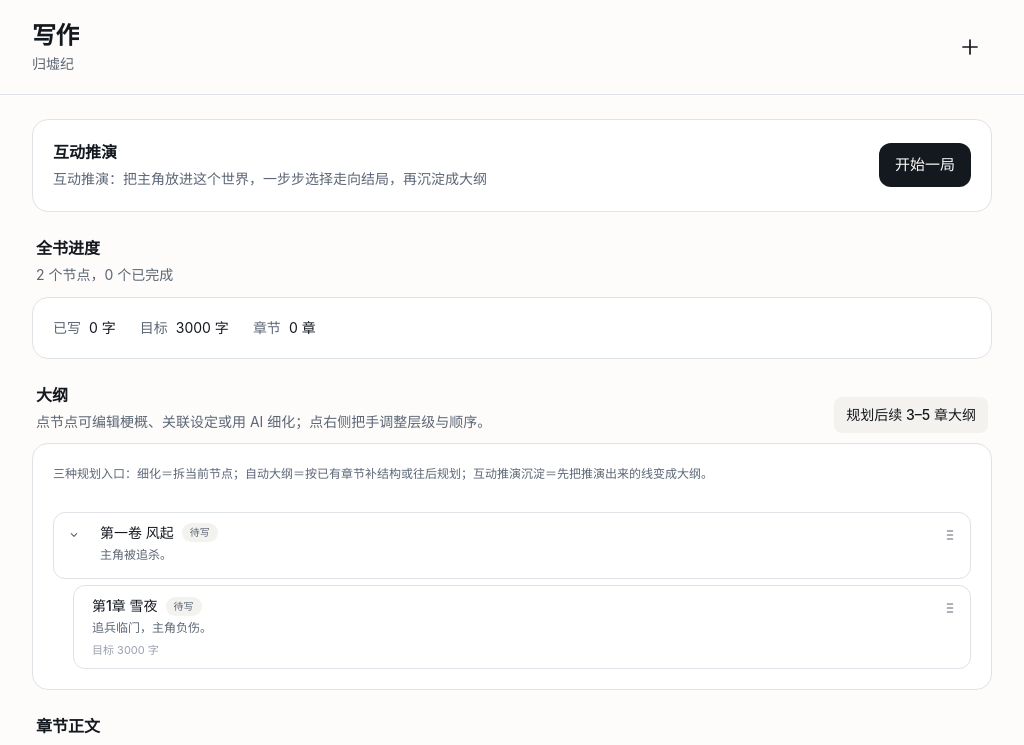
Test: 编辑与自动保存 › 实时显示字数
Step 1. Click the button with aria-label "编辑「第1章 雪夜」" → (125, 606), box x1=84 y1=586 x2=932 y2=668
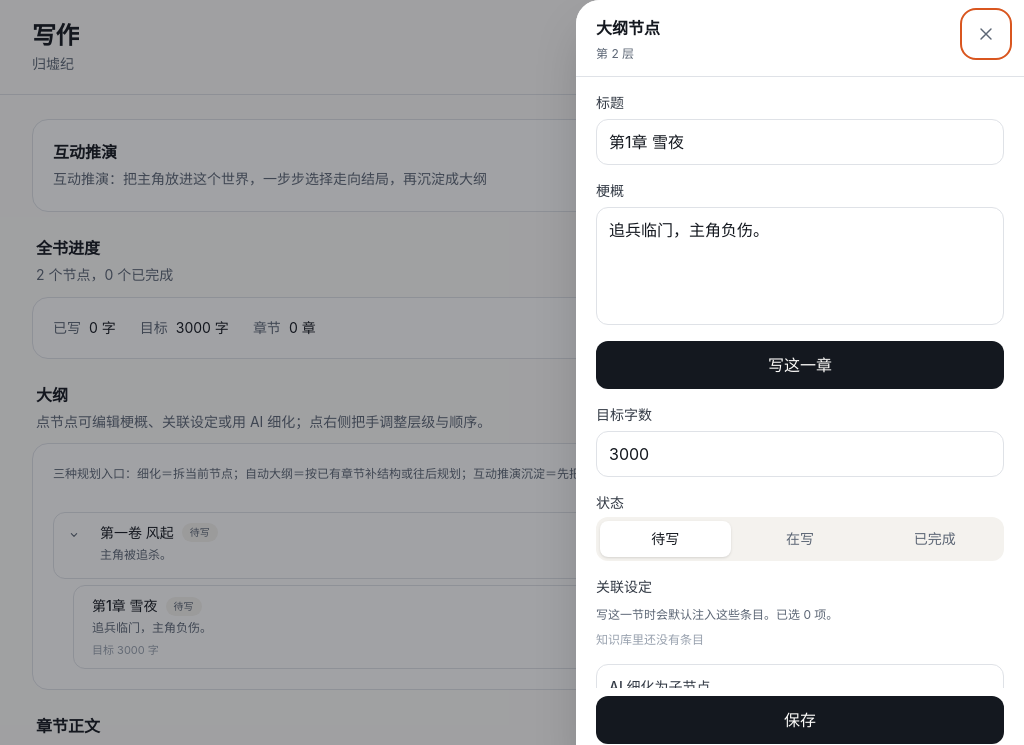
Step 2. Click the button "写这一章" → (800, 364), box x1=596 y1=340 x2=1004 y2=388
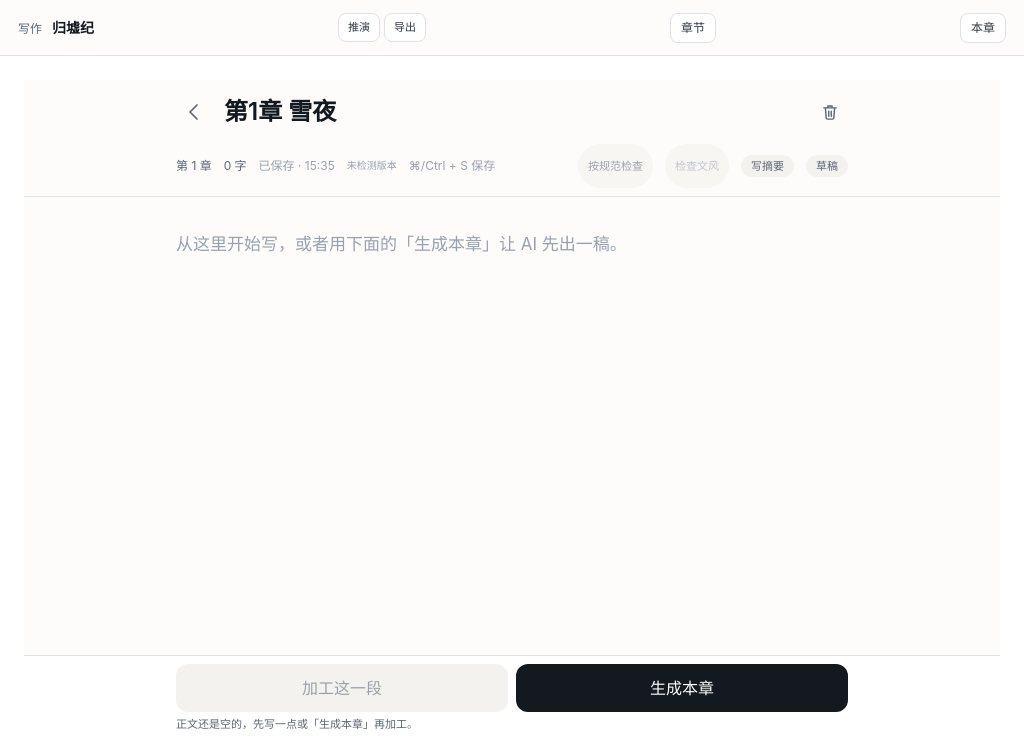
Expected: the text box named "章节正文" is shown
Step 3. Type "一二三四五" into the text box named "章节正文" → (512, 426), box x1=172 y1=197 x2=852 y2=654
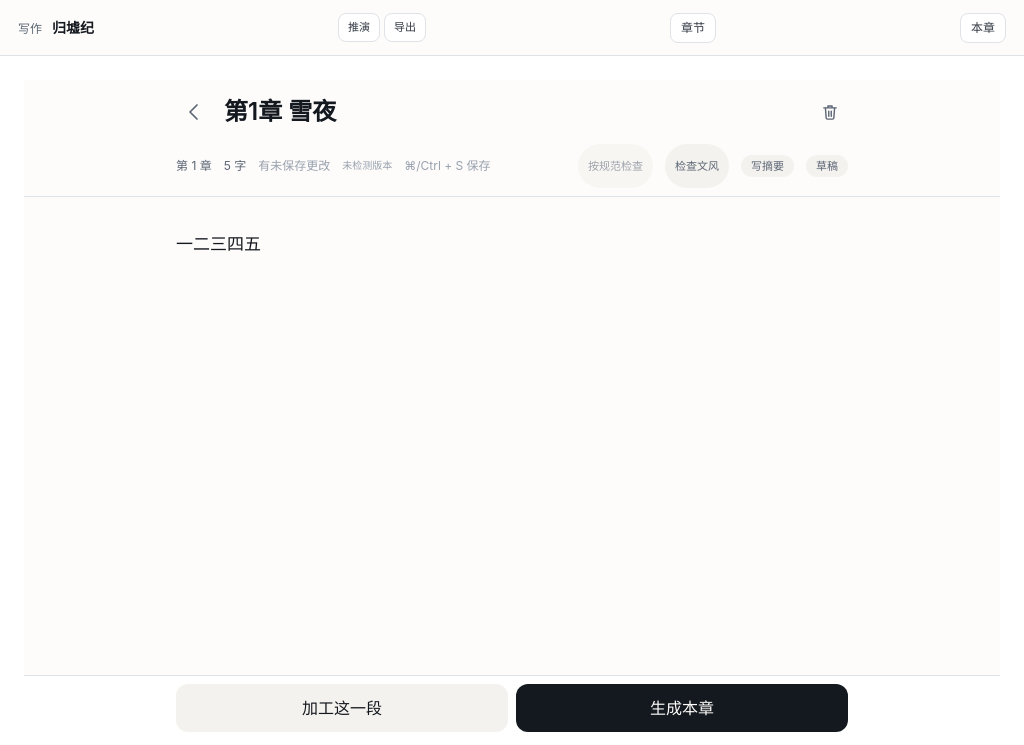
Expected: the text "5 字" is shown, x1=224 y1=158 x2=246 y2=174
